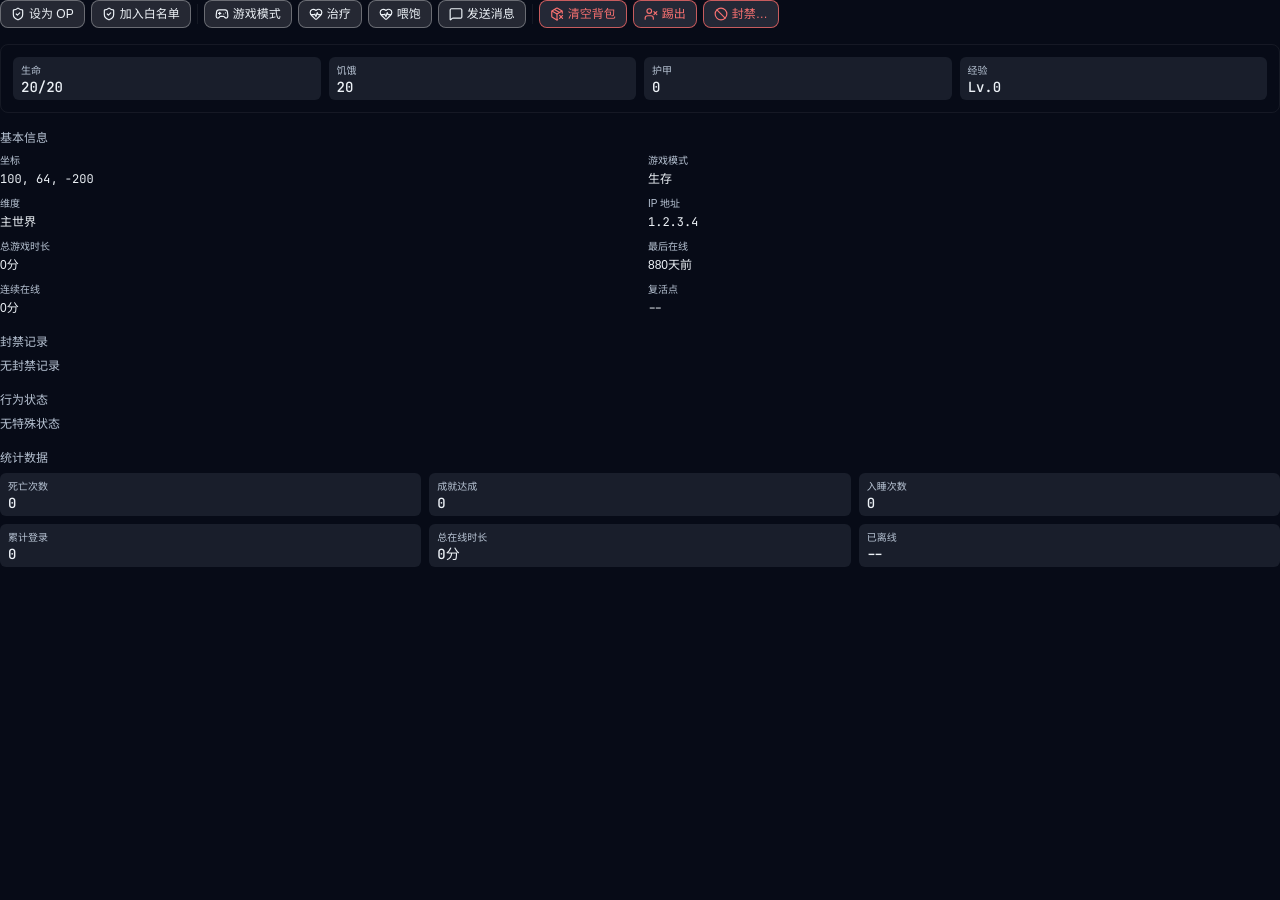
Scenario: OverviewTab 不可逆 / 无逆操作 › 清空背包仍走确认弹窗（不可逆 + 后果清单），不直接执行
Click the button "清空背包" at (583, 14), box top-left (539, 0), bottom-right (627, 28)
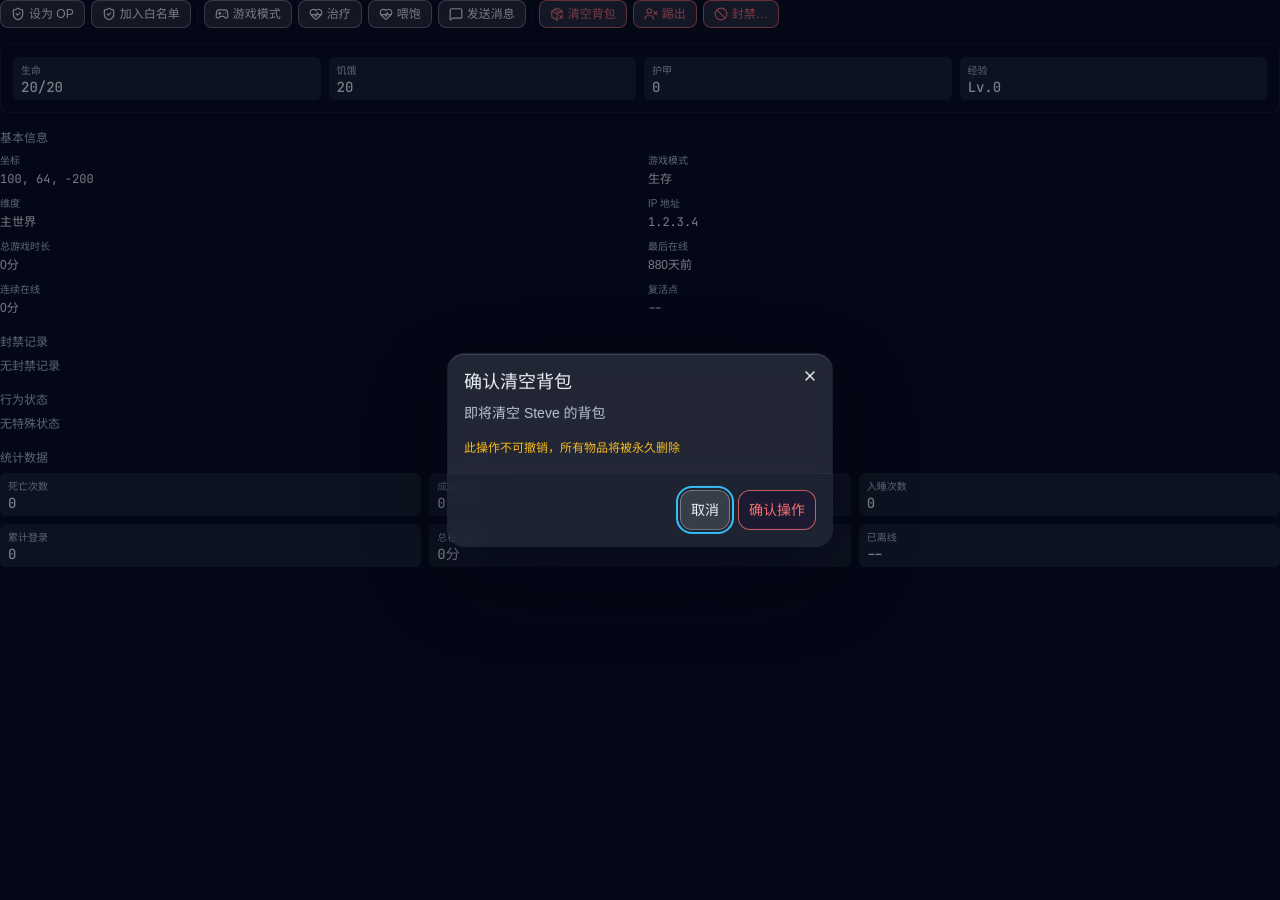
Check: the heading "确认清空背包" is shown, box top-left (464, 372), bottom-right (572, 392)
Check: the text "此操作不可撤销，所有物品将被永久删除" is shown, box top-left (464, 441), bottom-right (680, 455)
